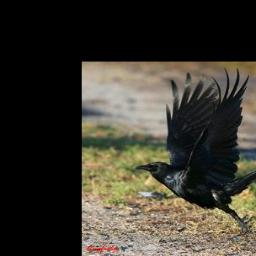Crow: (133, 65, 256, 236)
